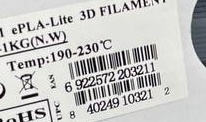1d: (67, 43, 158, 78)
